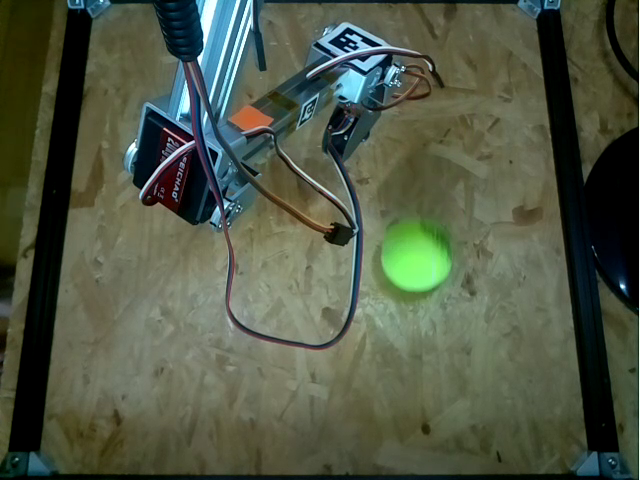tennis_ball: (380, 217, 454, 293)
